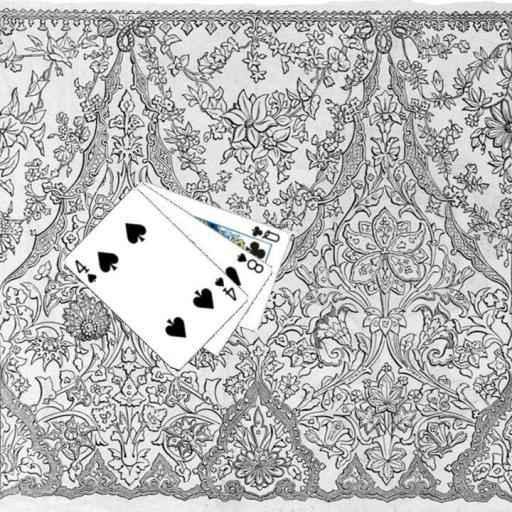4S: (211, 274, 238, 302), (72, 256, 99, 284)
8S: (234, 249, 266, 275)
QC: (248, 222, 282, 244)
